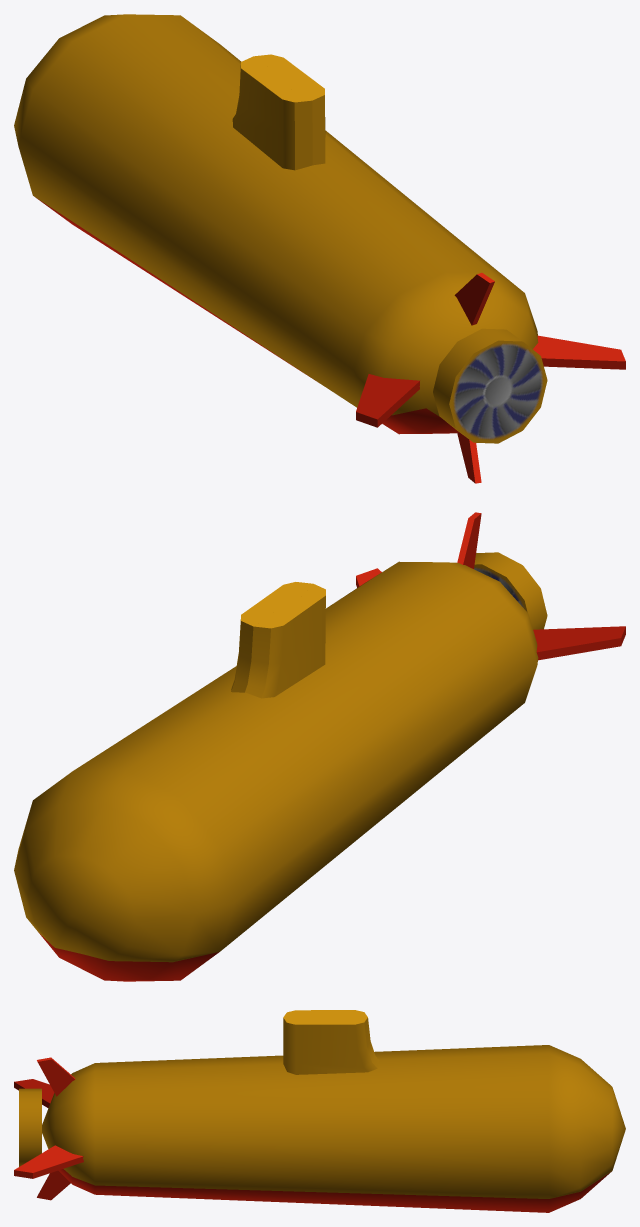
Rendered from submarine.fbx.
3 renders of one model, top to bottom at view 1: azimuth 30°, elevation 25°; view 2: azimuth 150°, elevation 25°; view 3: azimuth 270°, elevation 25°, orthographic. The views are drawn at different scales.
Visible parts, largest first — view 1: polySurface278; view 2: polySurface278; view 3: polySurface278.
Boxes of the visible parts, box(x1,y1,x2,y2) form: polySurface278: box(14, 14, 625, 483); polySurface278: box(14, 512, 625, 981); polySurface278: box(14, 1010, 625, 1212).
Bounding box in the file's own units: 190 × 180 × 534.
